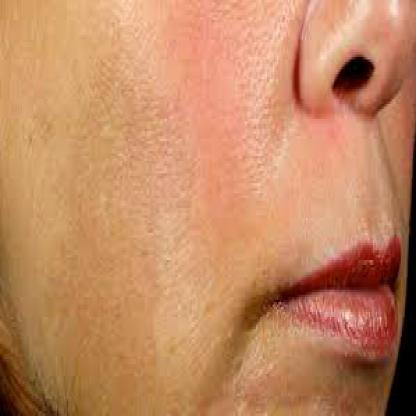darkspot: (95, 42, 200, 315), (224, 0, 291, 186)
